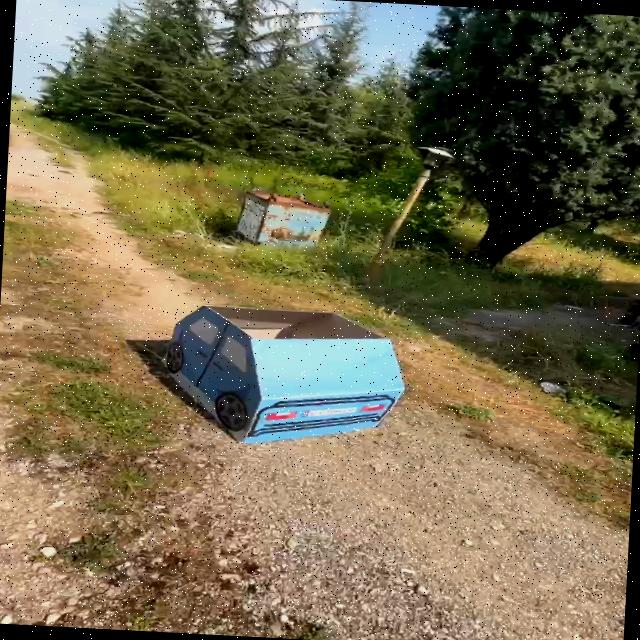blue_car: (146, 291, 421, 463)
